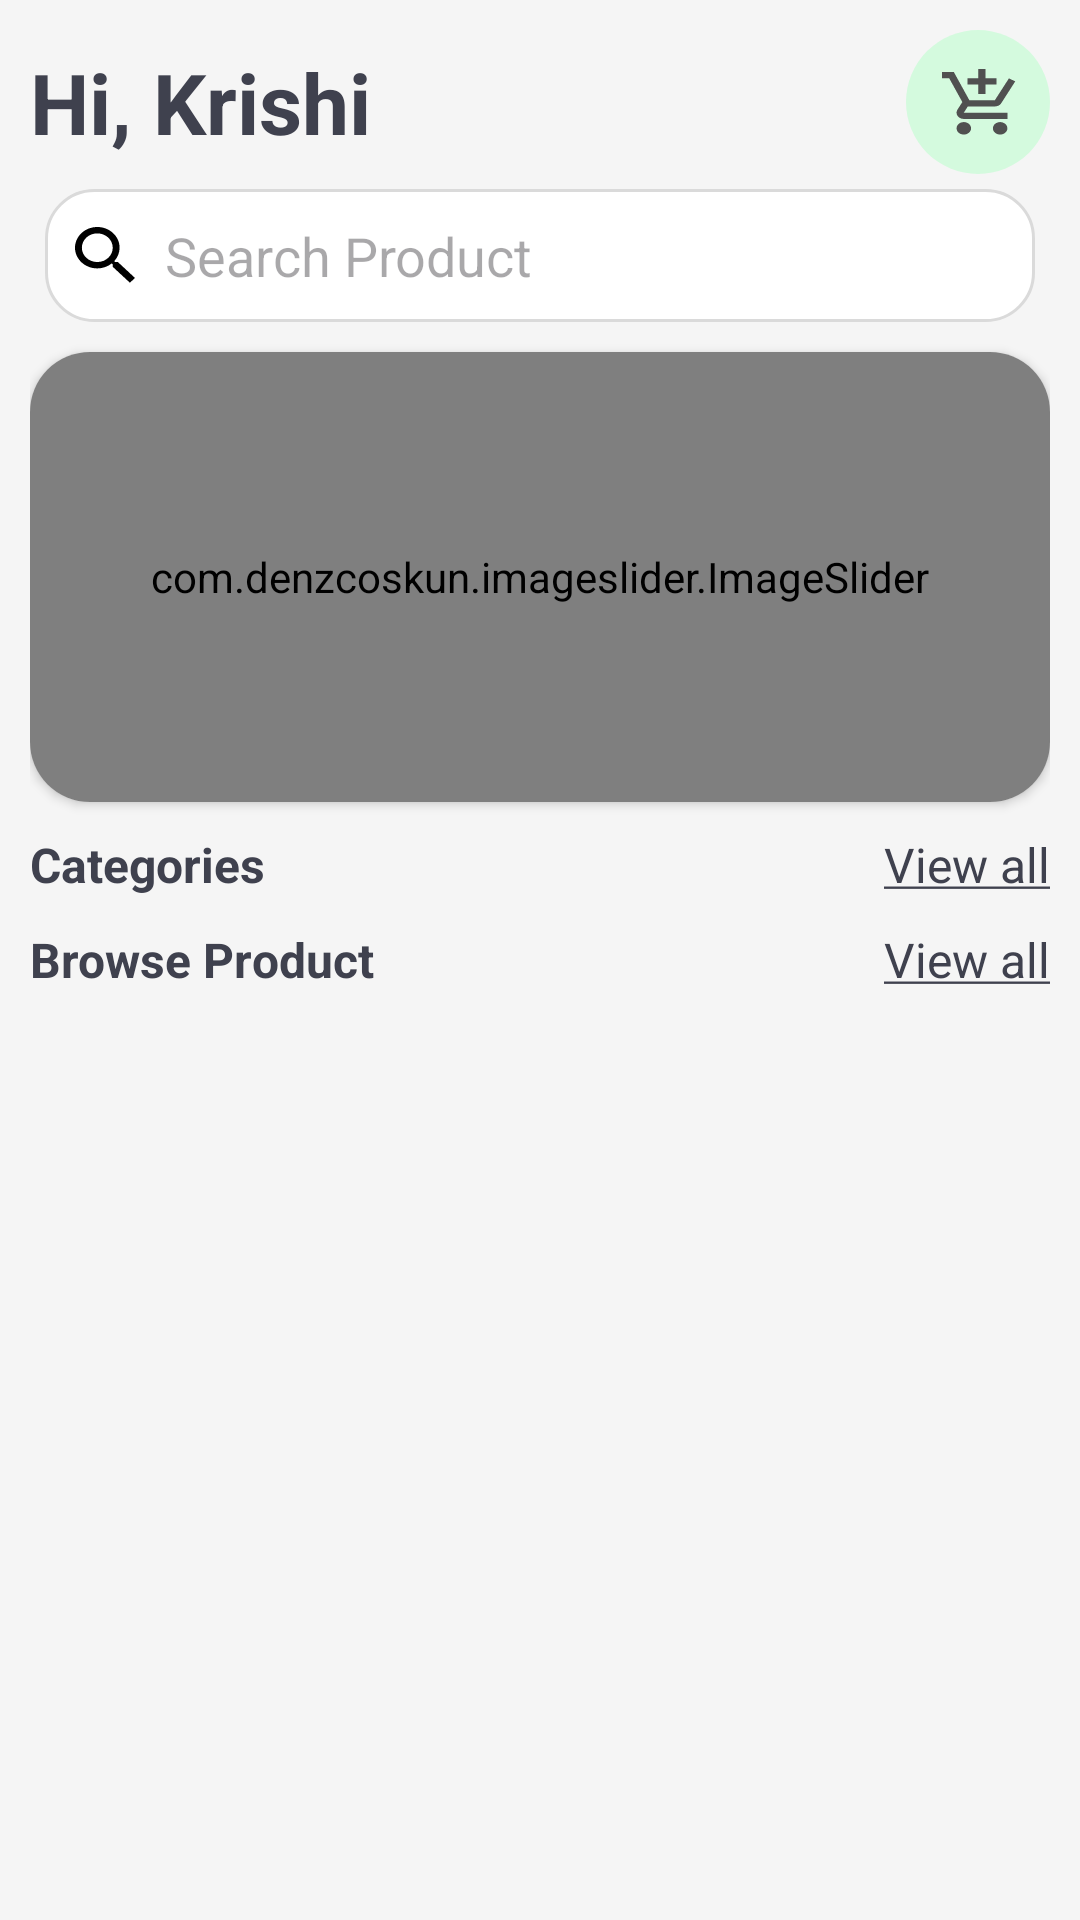

Where icons sit on this 1080*1920 app screen, as bbox(x1, y1, x2, y2):
cart: bbox(906, 30, 1050, 174)
